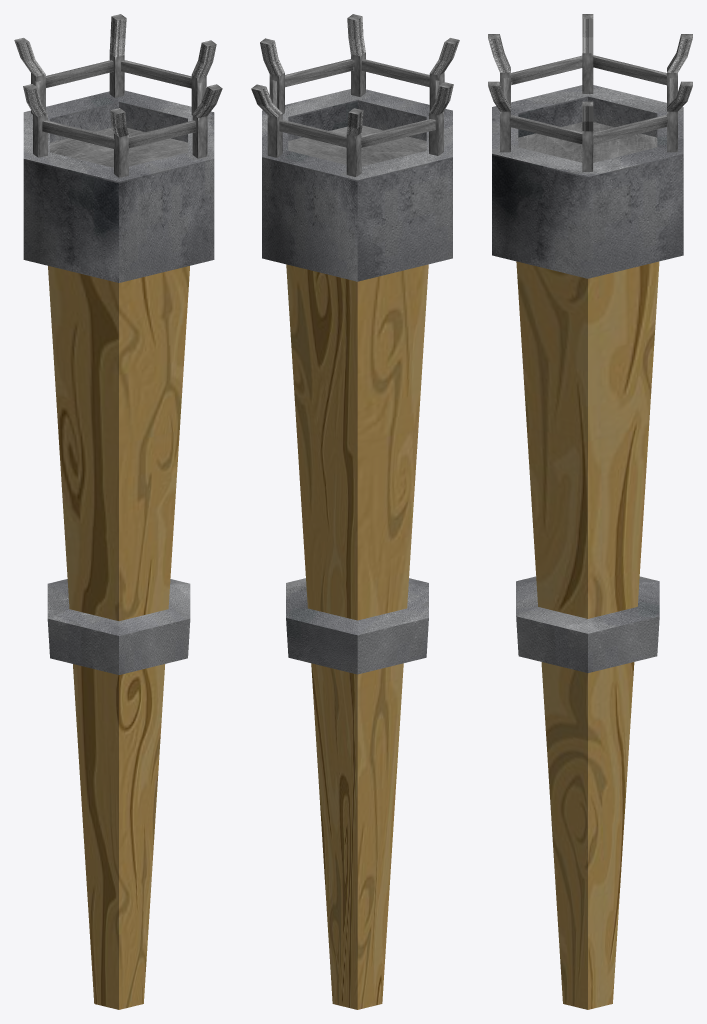
File: torch_standing.FBX
3 views of the same model, side by side, from view 1: azimuth 30°, elevation 25°; view 2: azimuth 150°, elevation 25°; view 3: azimuth 270°, elevation 25° (orthographic).
Parts seen in each view (by area): view 1: Cylinder002; view 2: Cylinder002; view 3: Cylinder002.
Boxes of the visible parts, box(x1,y1,x2,y2) form: Cylinder002: box(14, 14, 222, 1009); Cylinder002: box(251, 14, 459, 1009); Cylinder002: box(488, 14, 692, 1009).
Size of the model in its own units: 5.91 by 5.47 by 27.66.
